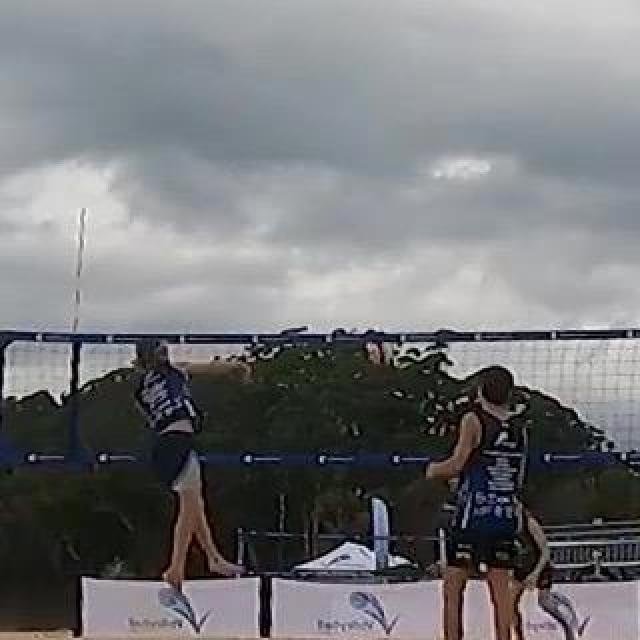volleyball: (368, 339, 394, 365)
